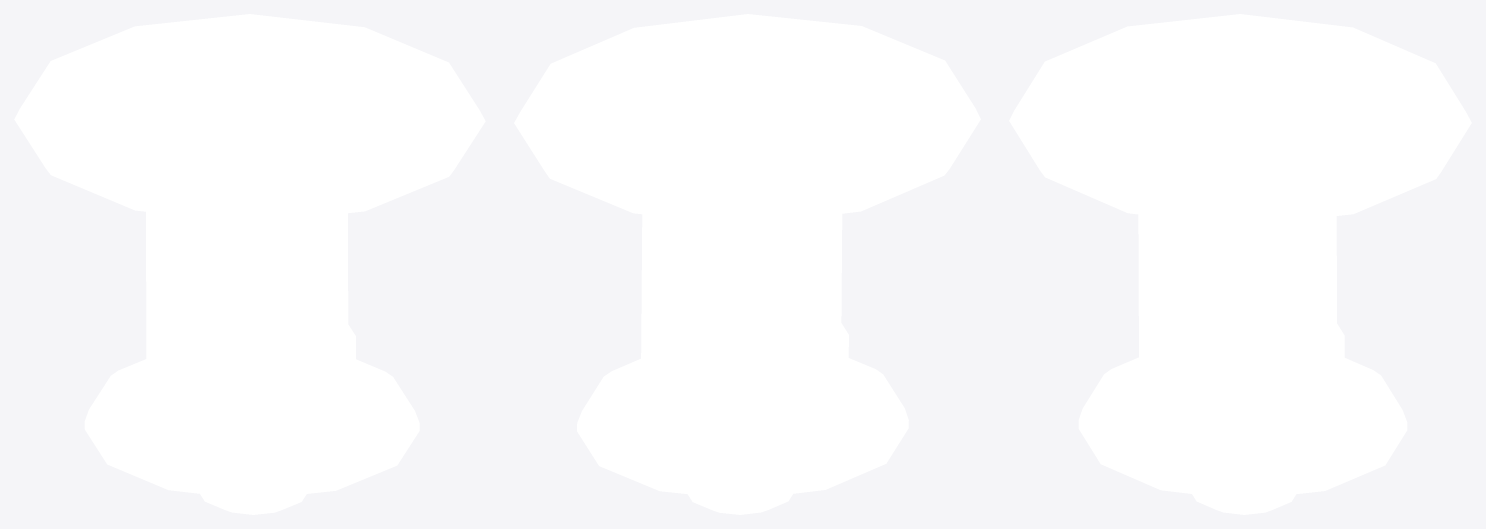
File: tavern_lantern.glb
3 renders of one model, left to right at view 1: azimuth 30°, elevation 25°; view 2: azimuth 150°, elevation 25°; view 3: azimuth 270°, elevation 25°, orthographic.
Visible parts, largest first — view 1: defaultMaterial.022; view 2: defaultMaterial.022; view 3: defaultMaterial.022.
Boxes of the visible parts, x1=… form: defaultMaterial.022: x1=14, y1=14, x2=485, y2=514; defaultMaterial.022: x1=514, y1=14, x2=980, y2=514; defaultMaterial.022: x1=1009, y1=14, x2=1471, y2=514.
Size of the model in its own units: 0.4175 by 0.4332 by 0.4175.
1 material, 1 textured.
